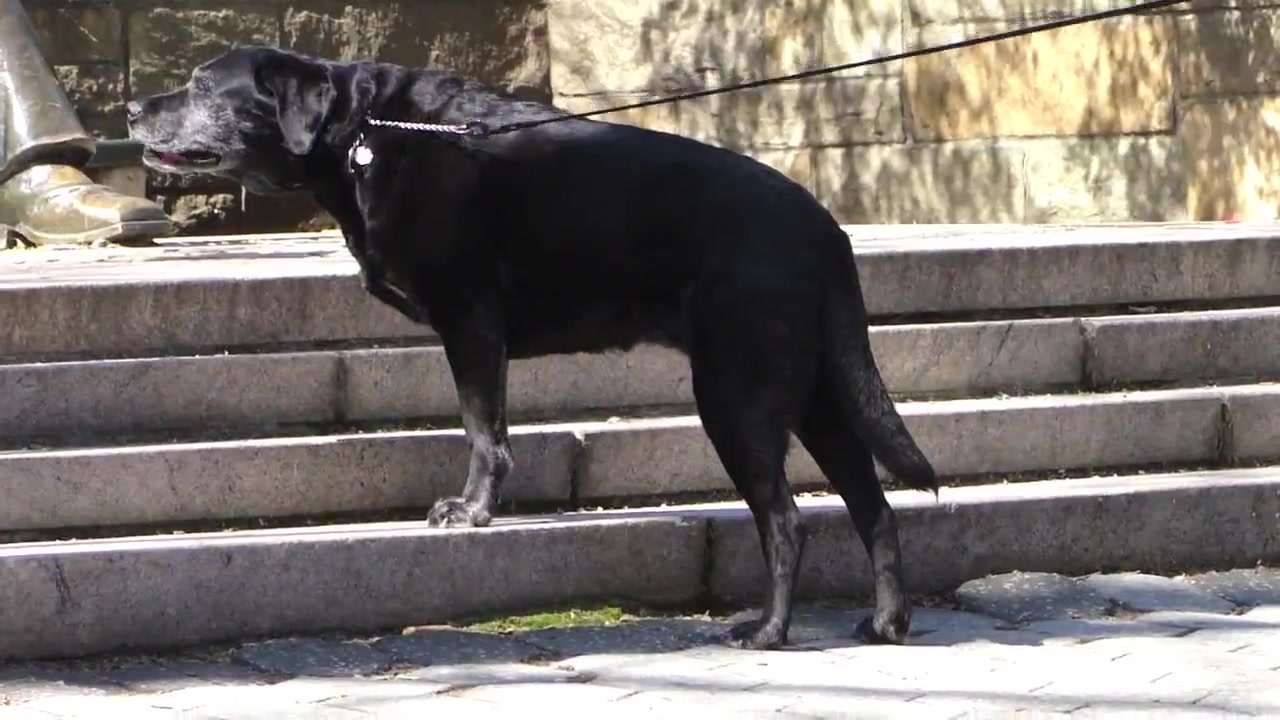dog: (123, 45, 945, 650)
